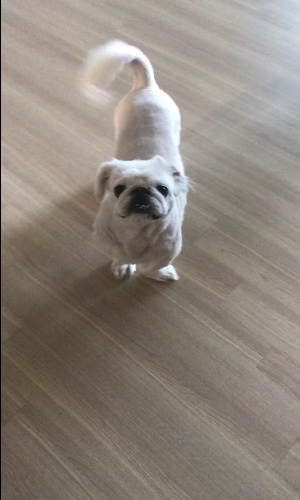ddubi: (81, 36, 197, 287)
